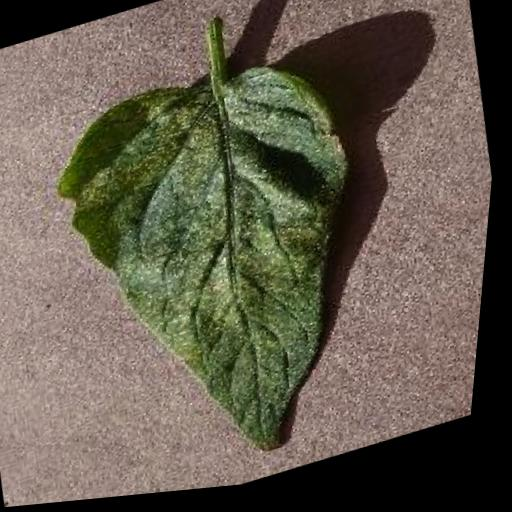Spider Mites: (25, 33, 411, 507)
